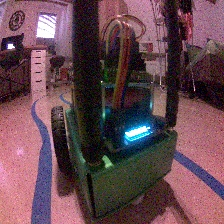rob: (50, 35, 180, 223)
